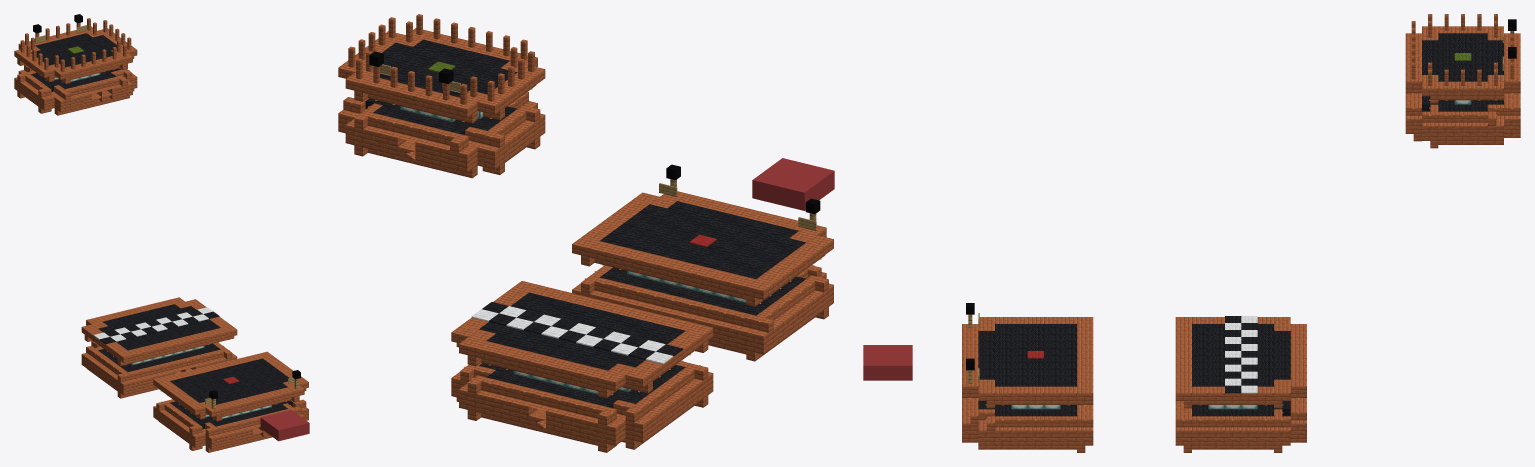
The model's file is minecraft.obj.
3 views of the same model, side by side, from view 1: azimuth 30°, elevation 25°; view 2: azimuth 150°, elevation 25°; view 3: azimuth 270°, elevation 25° (orthographic). The views are drawn at different scales.
Size of the model in its own units: 11 by 25.52 by 40.
